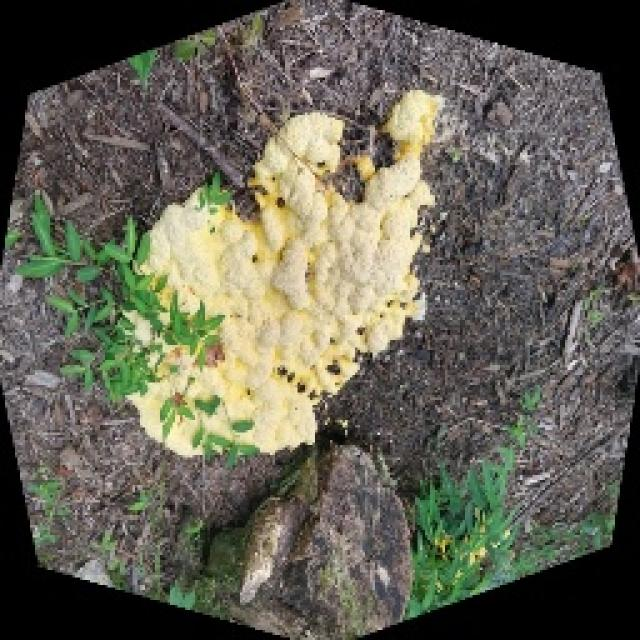Dog_vomit_slime_mold: (80, 107, 464, 462)
